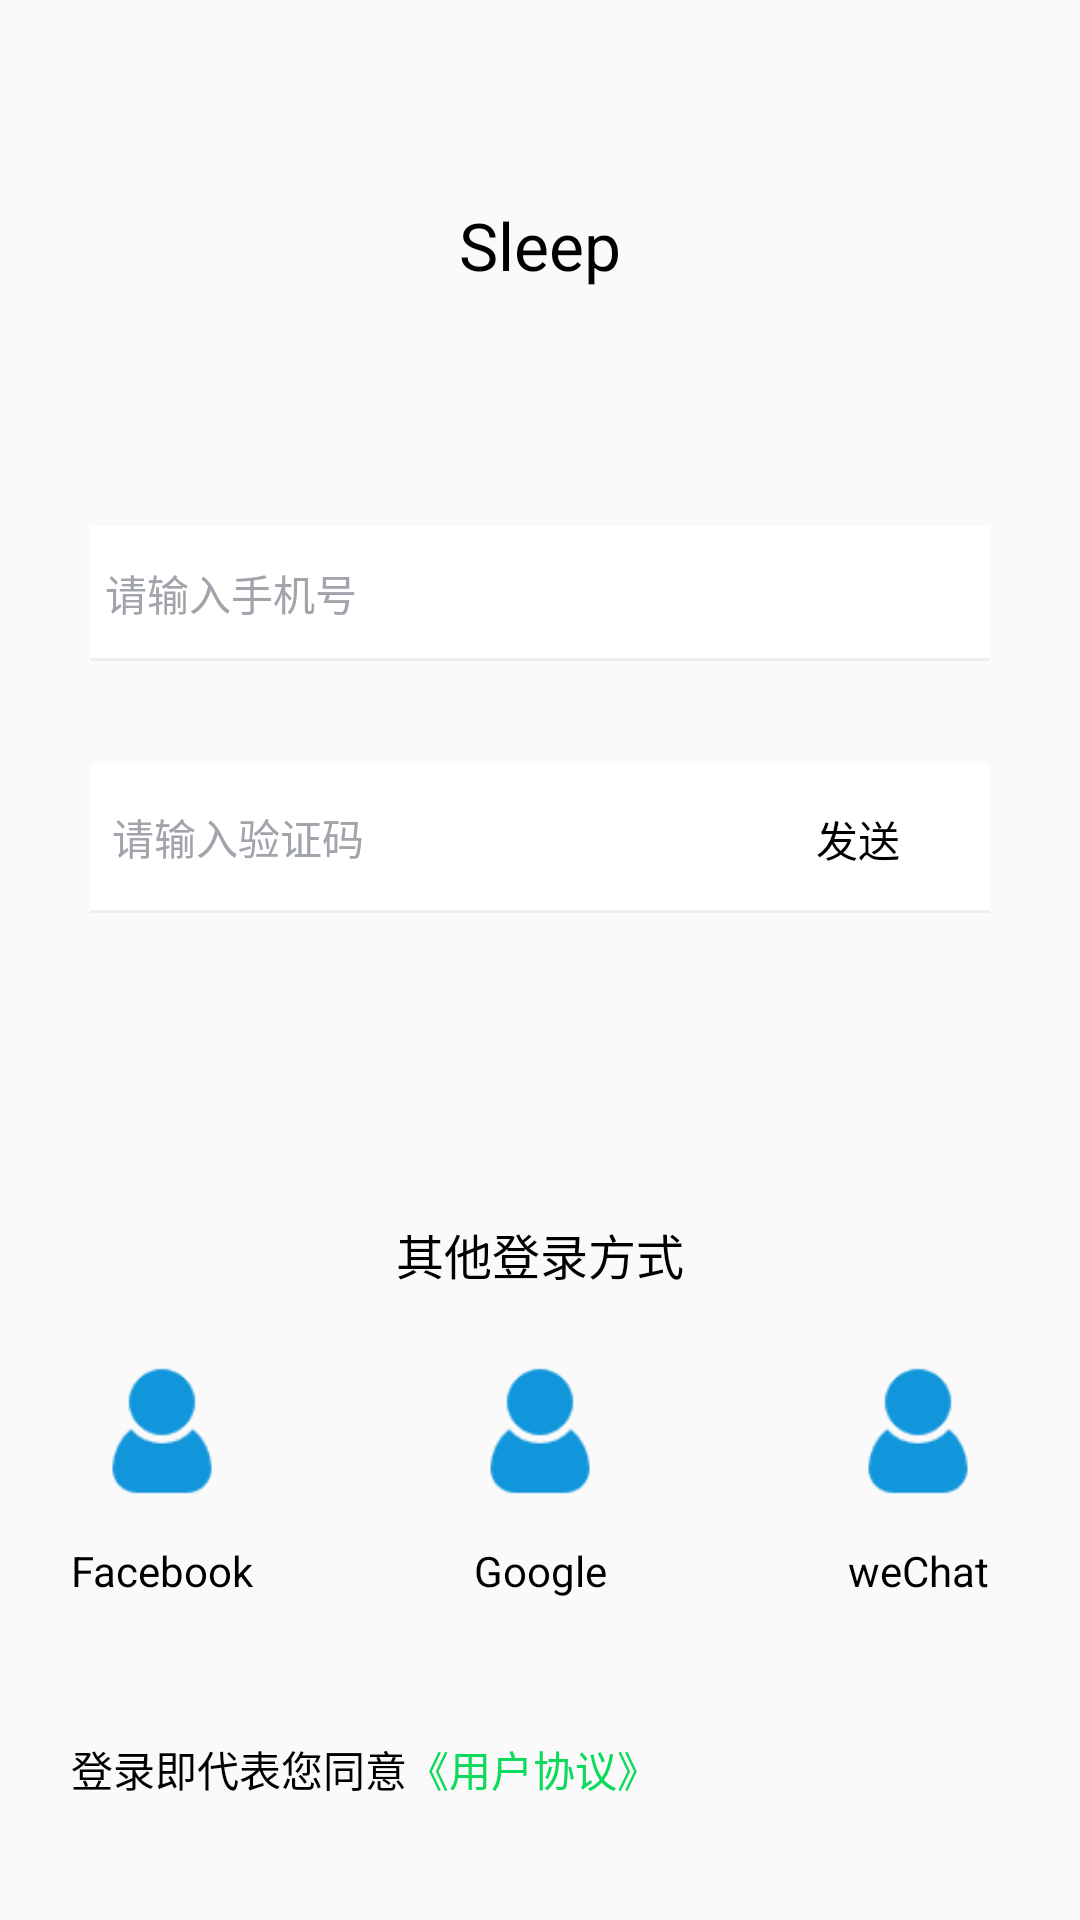

Named icons in this screenshot (1080w x 1920h) and their bounding boxes, (x1, y1, x2, y2):
user: (112, 1368, 212, 1494), (490, 1368, 590, 1494), (868, 1368, 968, 1494)
